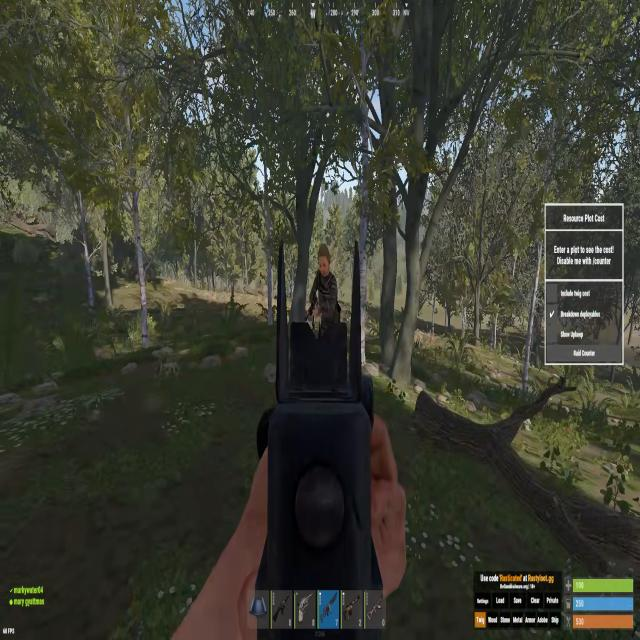Player: (309, 244, 338, 322)
